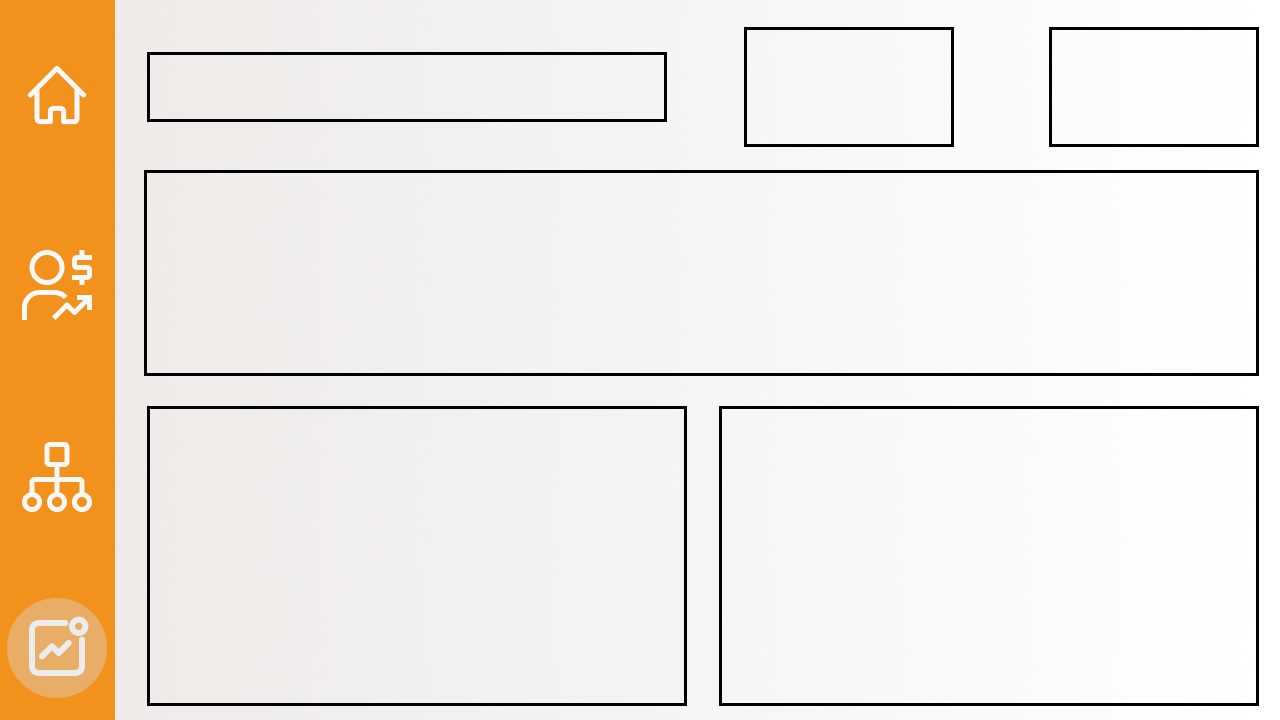

What the dashboard file says about the page in this screenshot:
{"tool":"powerbi","page":{"name":"Página 3","canvas":[1280,720],"ordinal":3},"visuals":[{"type":"barChart","fields":{"Category":["AmazonVendas.Cliente"],"Y":["Medidas.Número de pedidos"]},"box":[156.6,411.4,528.1,280.1],"z":0},{"type":"lineChart","fields":{"Category":["AmazonVendas.Data da Compra.Variation.Hierarquia de datas.Mês"],"Y":["Medidas.Número de pedidos"]},"box":[136.2,176,1120.5,194.5],"z":1000},{"type":"card","title":"Número de pedidos","fields":{"Values":["Medidas.Número de pedidos"]},"box":[1043.6,29.2,213,133.3],"z":2000},{"type":"card","title":"Tempo médio de entrega","fields":{"Values":["Medidas.Tempo médio de entrega"]},"box":[732.4,29.2,230.5,124.5],"z":3000},{"type":"slicer","fields":{"Values":["AmazonVendas.Data da Compra.Variation.Hierarquia de datas.Ano"]},"box":[132.3,49.6,549.5,74.9],"z":4000},{"type":"barChart","fields":{"Category":["AmazonVendas.Cliente"],"Y":["Medidas.Total de Vendas"]},"box":[728.5,411.4,528.1,289.8],"z":5000},{"type":"actionButton","box":[8.6,54.7,99.4,87.8],"z":6000},{"type":"actionButton","box":[10.1,244.8,99.4,87.8],"z":7000},{"type":"actionButton","box":[10.1,433.4,99.4,87.8],"z":8000}]}

Visuals, with their boxes in screenshot pixels (x1, y1, x2, y2), scaled from the page's 1280x720 canvas onto the 1280x720 screenshot:
barChart - AmazonVendas.Cliente x Medidas.Número de pedidos: region(157, 411, 685, 692)
lineChart - AmazonVendas.Data da Compra.Variation.Hierarquia de datas.Mês x Medidas.Número de pedidos: region(136, 176, 1257, 370)
"Número de pedidos" card: region(1044, 29, 1257, 162)
"Tempo médio de entrega" card: region(732, 29, 963, 154)
slicer - AmazonVendas.Data da Compra.Variation.Hierarquia de datas.Ano: region(132, 50, 682, 124)
barChart - AmazonVendas.Cliente x Medidas.Total de Vendas: region(728, 411, 1257, 701)
actionButton: region(9, 55, 108, 142)
actionButton: region(10, 245, 110, 333)
actionButton: region(10, 433, 110, 521)
